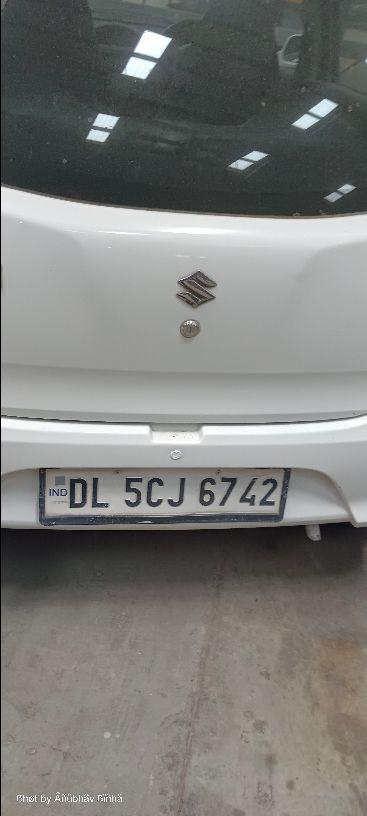license_plate: (37, 466, 291, 527)
